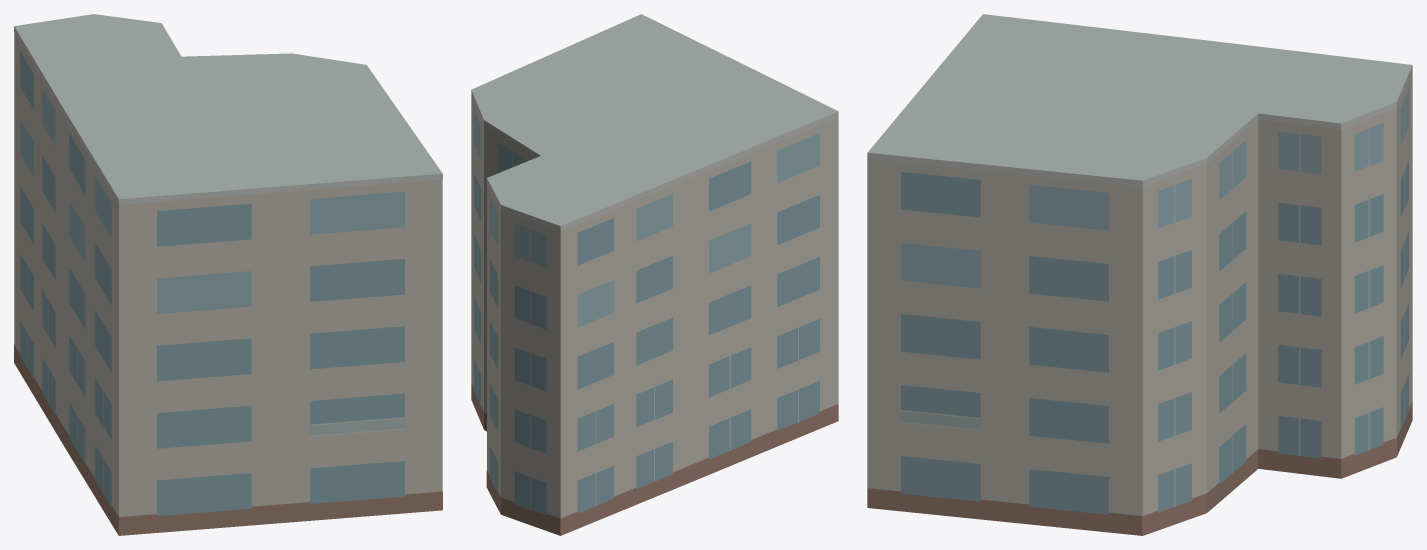
Rendered from survey-upis-32979153.glb.
The picture shows the model from 3 angles, left to right: view 1: azimuth 30°, elevation 25°; view 2: azimuth 150°, elevation 25°; view 3: azimuth 270°, elevation 25°; orthographic projection. The views are drawn at different scales.
Parts seen in each view (by area): view 1: survey-upis-32979153.tmp; view 2: survey-upis-32979153.tmp; view 3: survey-upis-32979153.tmp.
Part boxes in pixels (<box>): survey-upis-32979153.tmp: <box>14,14,442,535</box>; survey-upis-32979153.tmp: <box>471,14,838,535</box>; survey-upis-32979153.tmp: <box>867,14,1412,535</box>.
Bounding box in the file's own units: 14.59 × 14.5 × 20.17.
